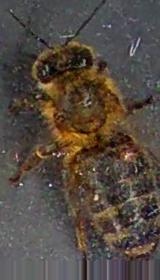varroa_mite: (116, 138, 140, 166)
